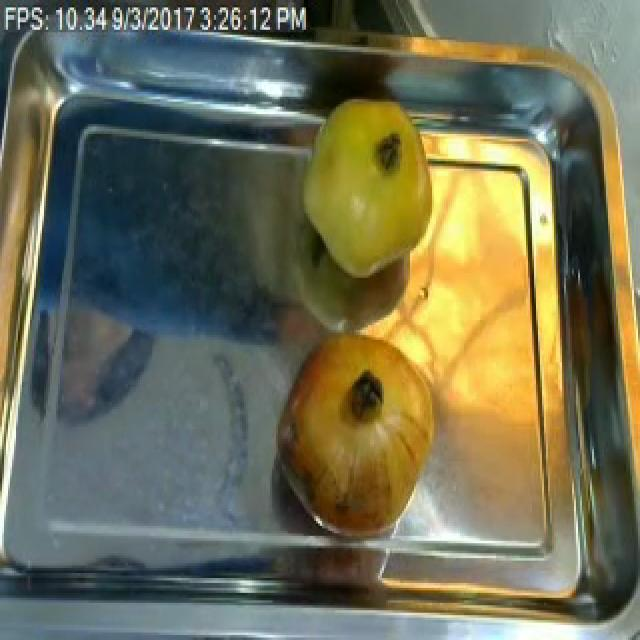fruit: (272, 323, 446, 548), (292, 89, 444, 288)
